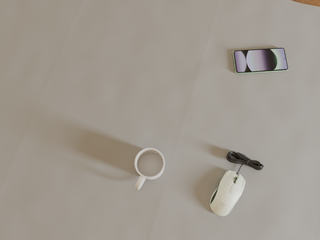cup: (135, 148, 165, 190)
mouse: (210, 171, 245, 216)
phone: (233, 48, 288, 74)
